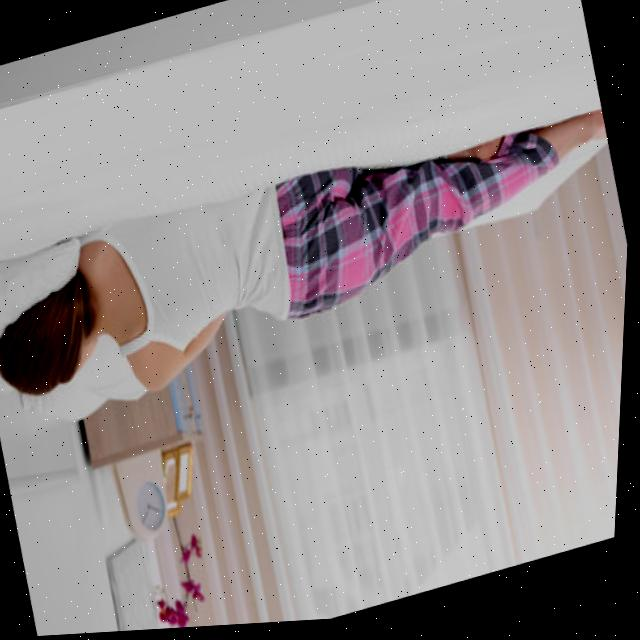sleeping-person: (0, 56, 637, 471)
